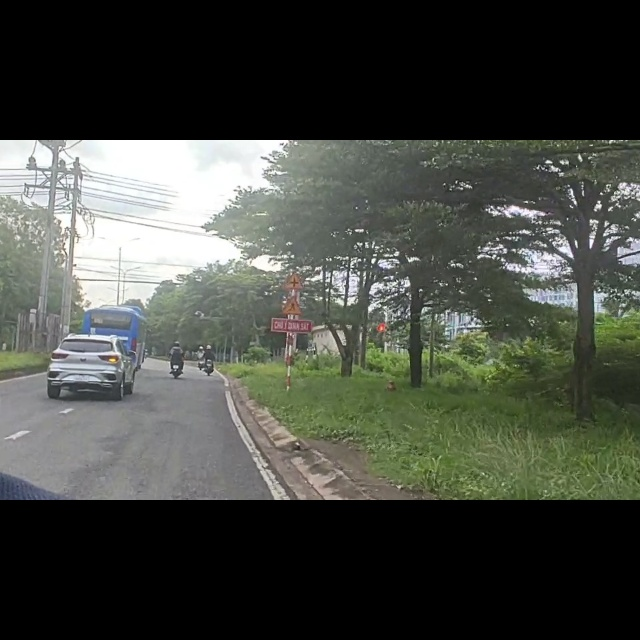bien_nguy_hiem: (282, 233, 306, 268), (280, 279, 304, 311)
